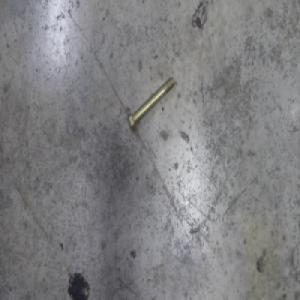Bolt: (126, 74, 176, 131)
